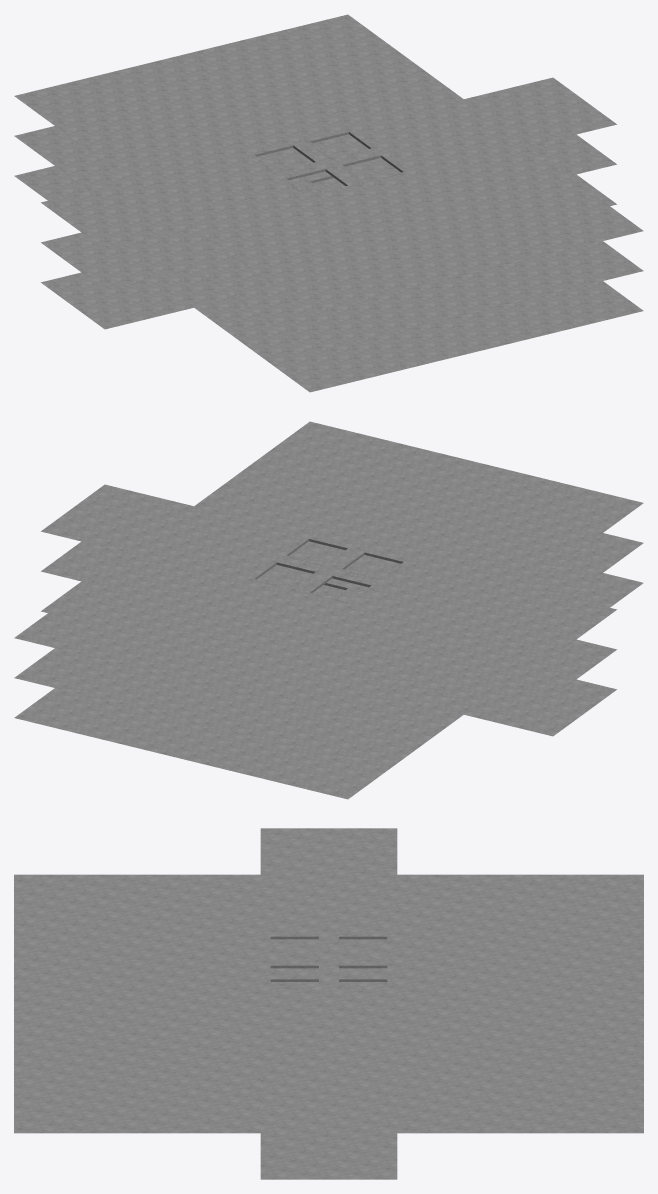
File: FinalMap_Floor.FBX
The picture shows the model from 3 angles, top to bottom: view 1: azimuth 30°, elevation 25°; view 2: azimuth 150°, elevation 25°; view 3: azimuth 270°, elevation 25°; orthographic projection. The views are drawn at different scales.
Parts seen in each view (by area): view 1: FinalMap_Floor; view 2: FinalMap_Floor; view 3: FinalMap_Floor.
Part boxes in pixels (x1,y1,x2,y2): FinalMap_Floor: (14,14,643,392); FinalMap_Floor: (14,421,643,799); FinalMap_Floor: (14,828,643,1179).
Bounding box in the file's own units: 6330 × 973 × 6330.
Materials: 1 (1 with a texture image).
